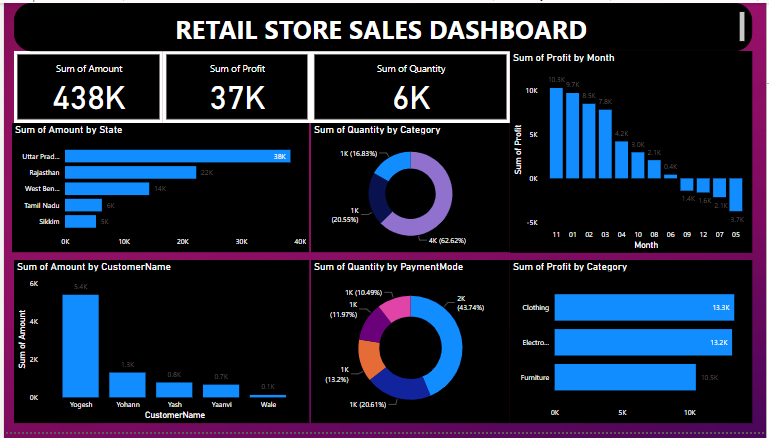

Layout of this report page (visuals, bound fields, positions):
{"tool":"powerbi","page":{"name":"Page 1","canvas":[1280,720],"ordinal":0},"visuals":[{"type":"cardVisual","fields":{"Data":["Details (2).Amount"]},"box":[16.8,80.6,250.3,120.9],"z":0},{"type":"cardVisual","fields":{"Data":["Details (2).Profit"]},"box":[267.1,80.6,248.6,120.9],"z":1000},{"type":"clusteredColumnChart","fields":{"Y":["Details (2).Profit"],"Category":["Orders (2).Text Range"]},"box":[850,80.6,406.5,339.3],"z":2000},{"type":"barChart","fields":{"Y":["Details (2).Amount"],"Category":["Orders (2).State"]},"box":[13.4,201.6,498.9,216.7],"z":3000},{"type":"clusteredColumnChart","fields":{"Category":["Orders (2).CustomerName"],"Y":["Details (2).Amount"]},"box":[16.8,431.7,495.5,273.8],"z":4000},{"type":"cardVisual","fields":{"Data":["Details (2).Quantity"]},"box":[515.7,80.6,334.3,120.9],"z":5000},{"type":"donutChart","fields":{"Y":["Details (2).Quantity"],"Category":["Details (2).Category"]},"box":[515.7,201.6,334.3,216.7],"z":6000},{"type":"donutChart","fields":{"Y":["Details (2).Quantity"],"Category":["Details (2).PaymentMode"]},"box":[515.7,431.7,334.3,273.8],"z":7000},{"type":"barChart","fields":{"Category":["Details (2).Category"],"Y":["Details (2).Profit"]},"box":[850,432,407,274],"z":8000},{"type":"textbox","box":[16.8,0,1239.7,80.6],"z":9000}]}

Visuals, with their boxes in screenshot pixels (x1, y1, x2, y2), scaled from the page's 1280x720 canvas onto the 769x438 screenshot:
cardVisual - Details (2).Amount: bbox=[10, 49, 160, 123]
cardVisual - Details (2).Profit: bbox=[160, 49, 310, 123]
clusteredColumnChart - Details (2).Profit x Orders (2).Text Range: bbox=[511, 49, 755, 255]
barChart - Details (2).Amount x Orders (2).State: bbox=[8, 123, 308, 254]
clusteredColumnChart - Orders (2).CustomerName x Details (2).Amount: bbox=[10, 263, 308, 429]
cardVisual - Details (2).Quantity: bbox=[310, 49, 511, 123]
donutChart - Details (2).Quantity x Details (2).Category: bbox=[310, 123, 511, 254]
donutChart - Details (2).Quantity x Details (2).PaymentMode: bbox=[310, 263, 511, 429]
barChart - Details (2).Category x Details (2).Profit: bbox=[511, 263, 755, 429]
textbox: bbox=[10, 0, 755, 49]
